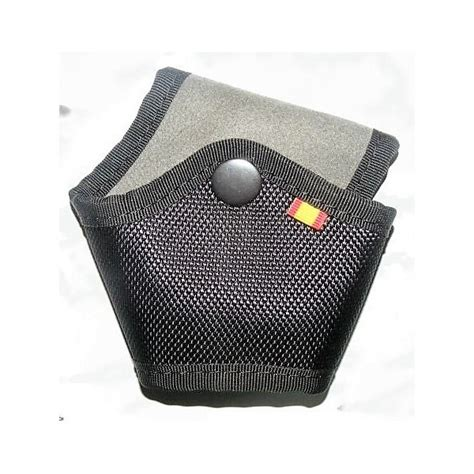nylon: (72, 65, 399, 407)
